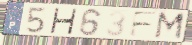3: (105, 9, 128, 37)
5: (25, 6, 49, 34)
6: (78, 7, 103, 37)
F: (128, 10, 160, 38)
H: (49, 7, 79, 35)
M: (153, 11, 187, 41)
